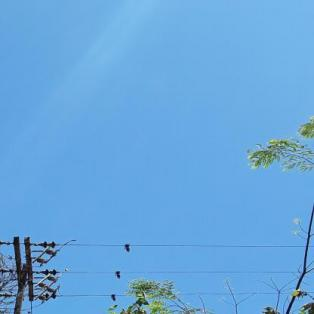Poste: (4, 261, 31, 314)
